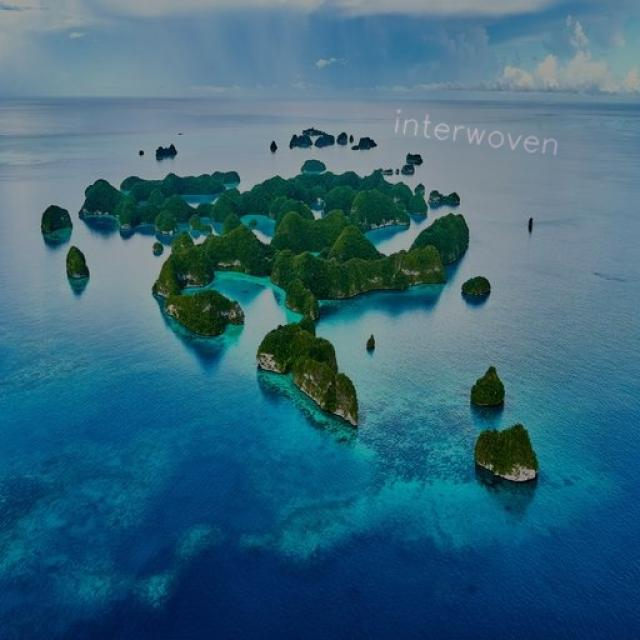watermark: (383, 108, 581, 160)
